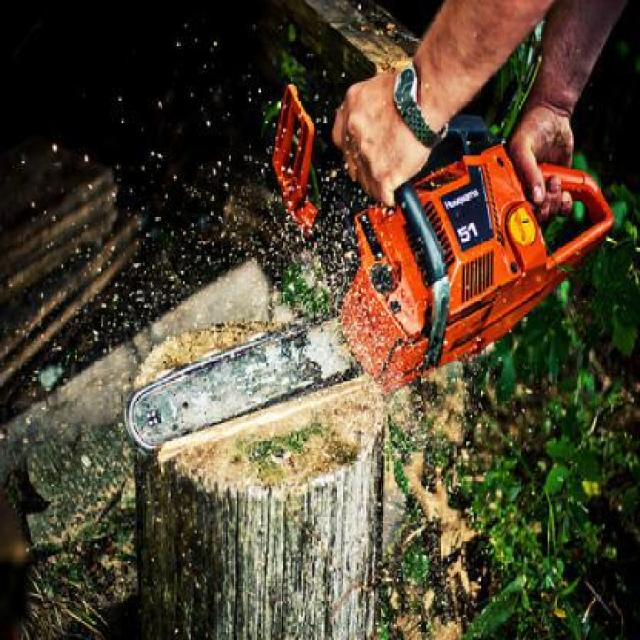Chainsaw: (117, 77, 618, 466)
